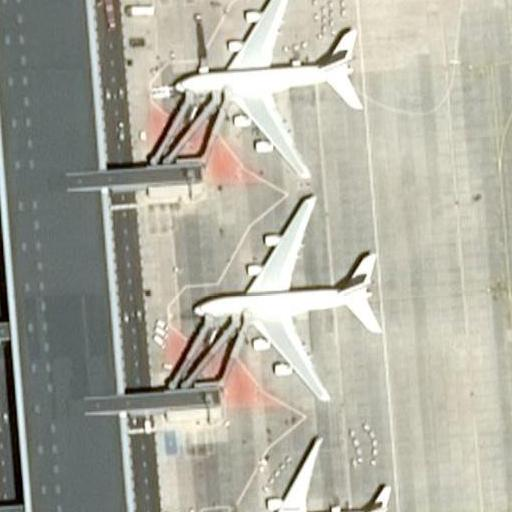Aircraft: (184, 191, 392, 406), (172, 0, 374, 185), (195, 423, 398, 512)
